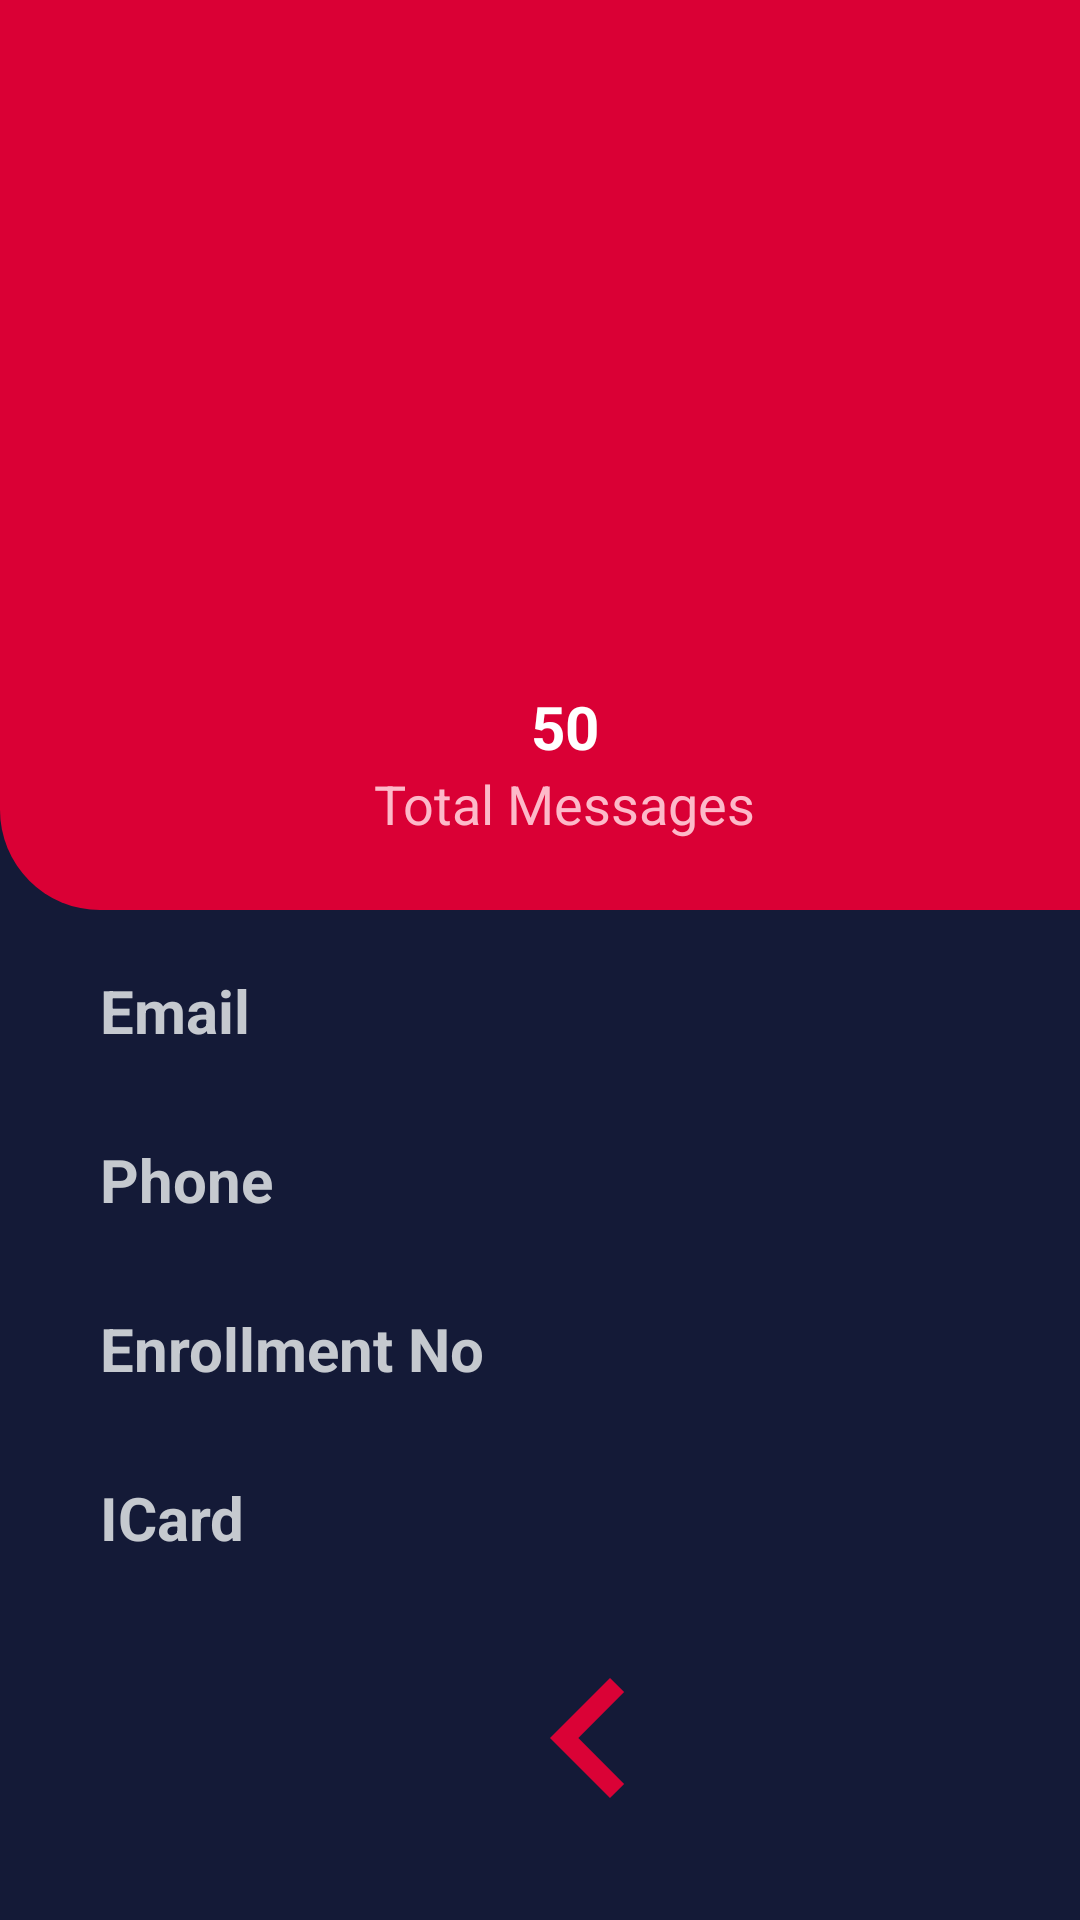

Icons on this 1080x1920 Android screen, each with the point to tap as [x,y]:
chevron left: [587,1738]
